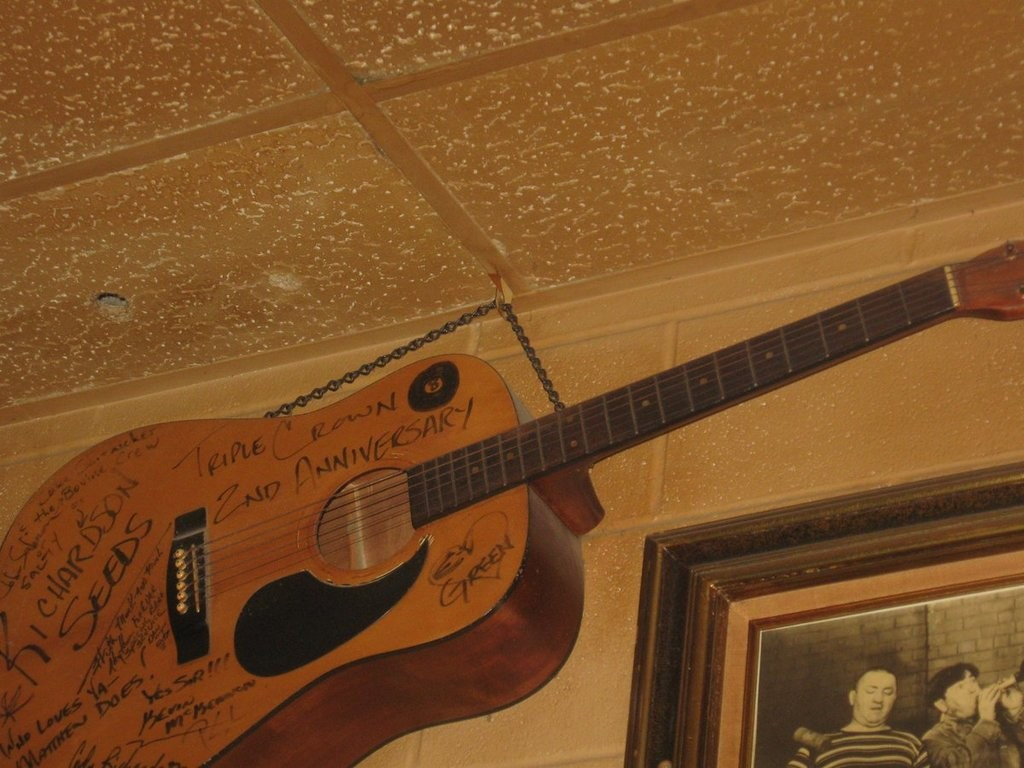guitar: (0, 240, 1024, 768)
